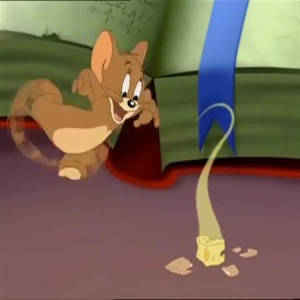Jerry: (85, 29, 154, 128)
